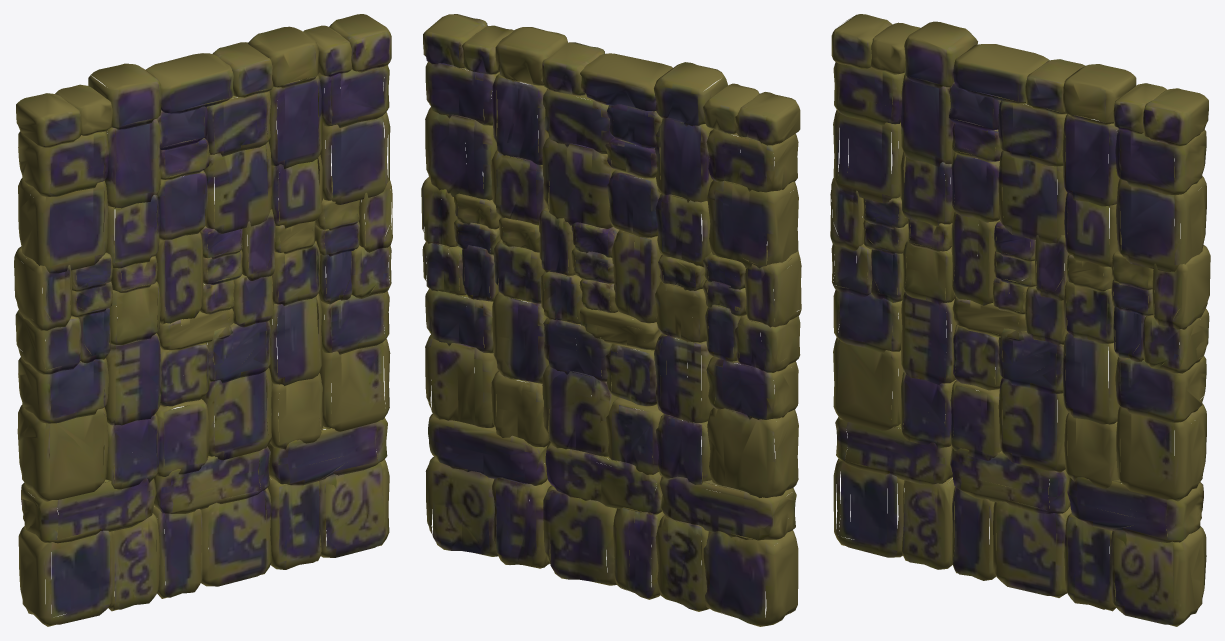
The model's file is breakablelWallInside_LowPoly.glb.
The picture shows the model from 3 angles, left to right: view 1: azimuth 30°, elevation 25°; view 2: azimuth 150°, elevation 25°; view 3: azimuth 330°, elevation 25°; orthographic projection.
Parts seen in each view (by area): view 1: Mesh_0.004; view 2: Mesh_0.004; view 3: Mesh_0.004.
Part boxes in pixels (<box>): Mesh_0.004: <box>14,14,392,626</box>; Mesh_0.004: <box>421,14,801,626</box>; Mesh_0.004: <box>830,14,1210,626</box>.
Bounding box in the file's own units: 1.25 × 1.75 × 0.1685.
1 material, 1 textured.
